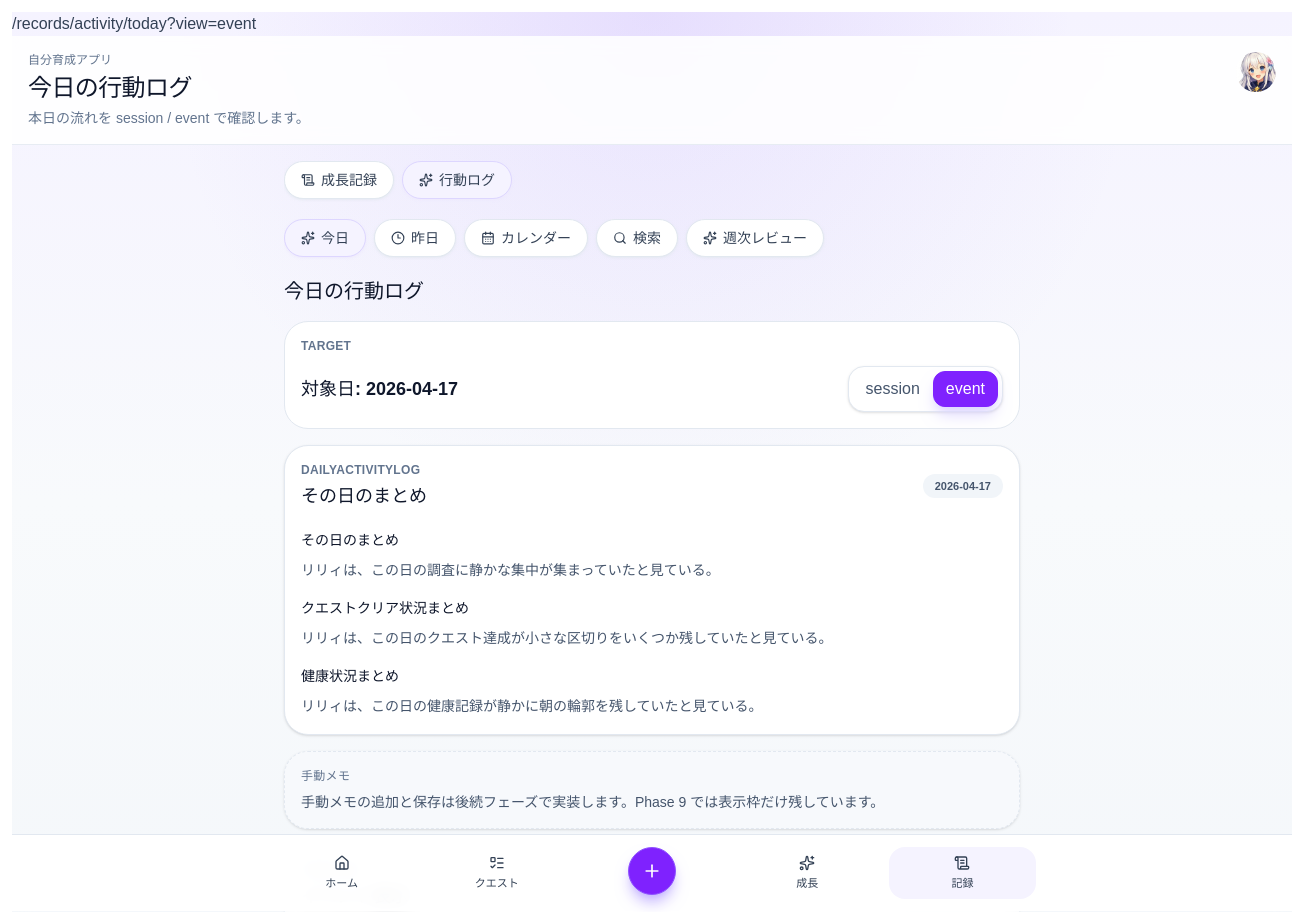
Test case: activity log routes › navigates between today and yesterday while preserving the current view
Click the link "昨日" at [415, 238], box [374,219,456,257]
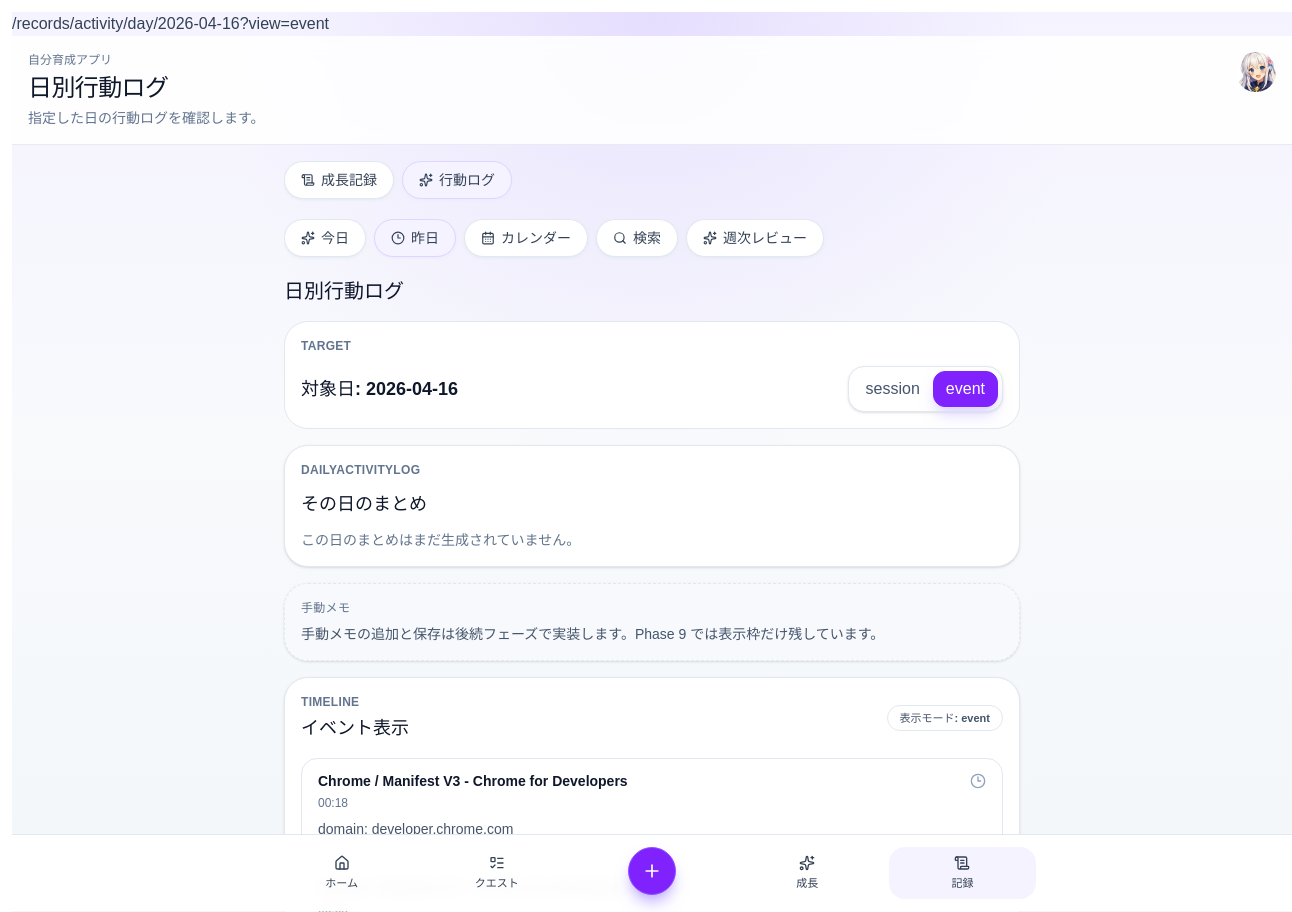
Check: the text with test id "location" reads "/records/activity/day/2026-04-16?view=event", box [12,15,329,32]
Click the link "今日" at [325, 238], box [284,219,366,257]
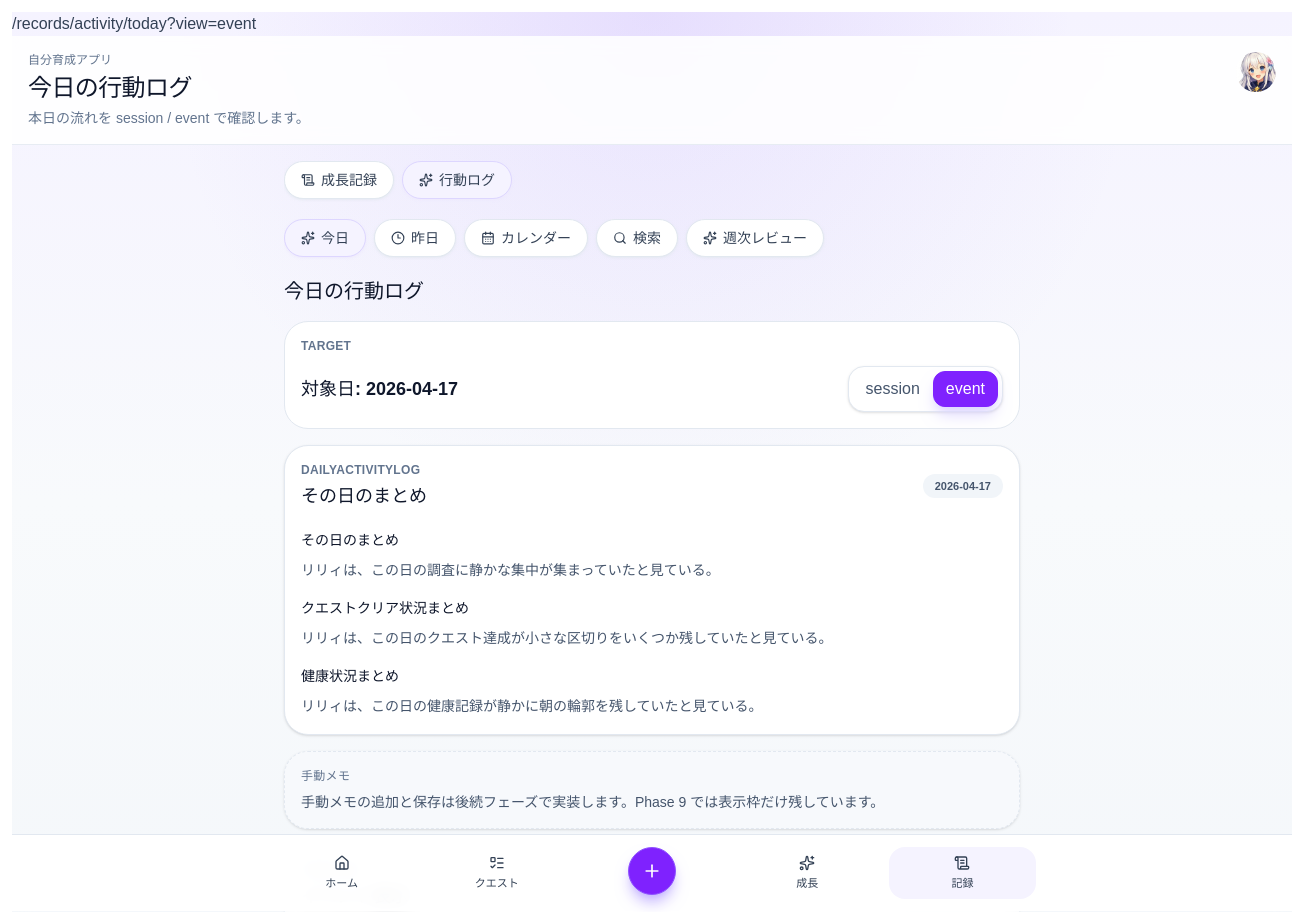
Check: the text with test id "location" reads "/records/activity/today?view=event", box [12,15,256,32]
